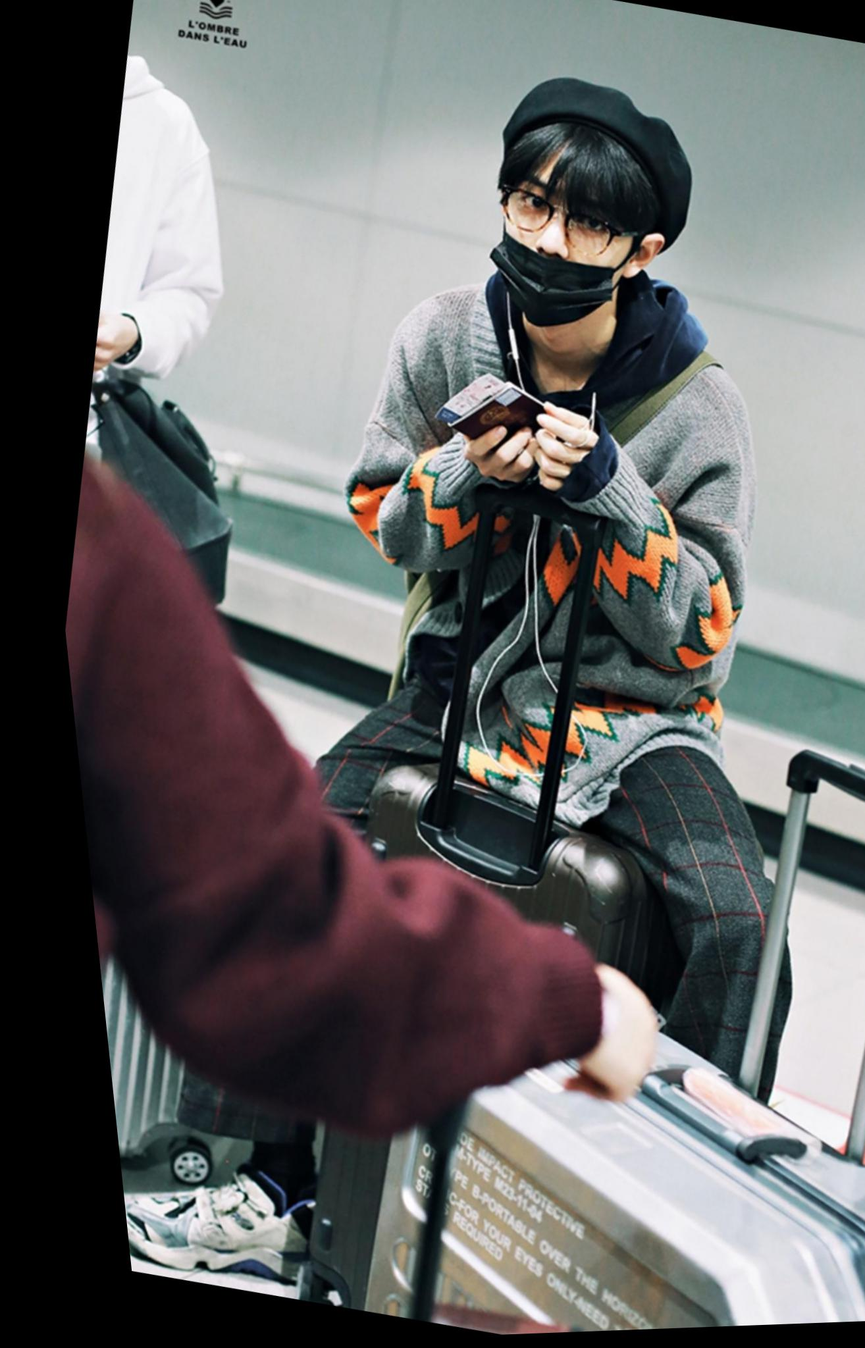WRONG: (473, 168, 640, 346)
